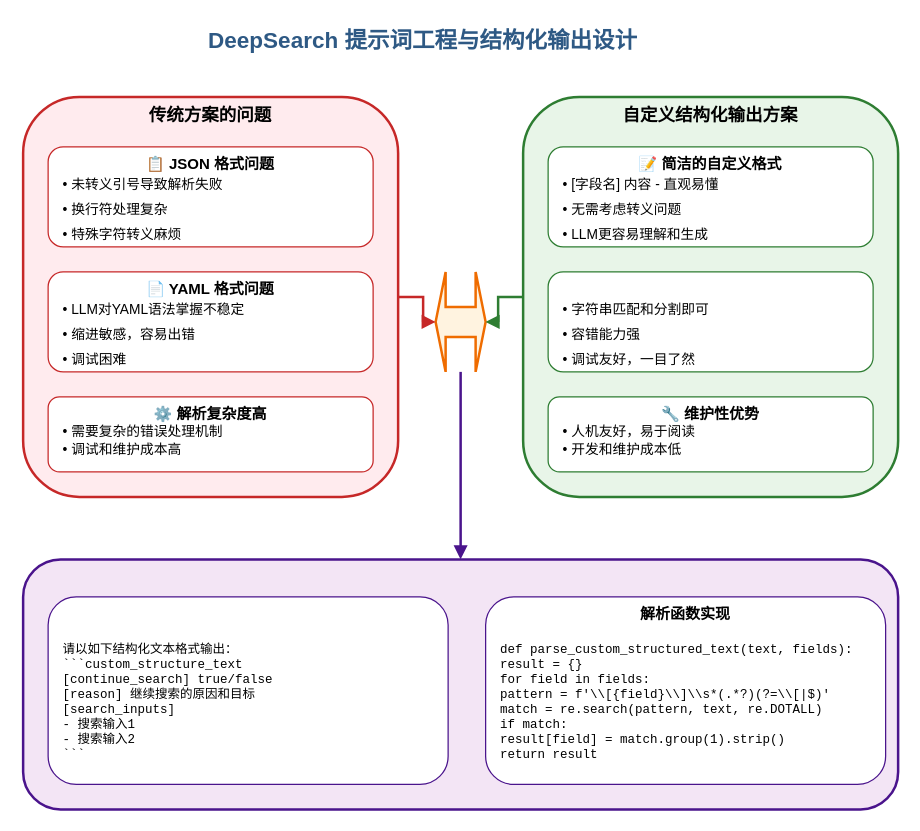
The diagram is 920 pixels wide and 831 high, and some of its shapes have lost their labels. Each missing label, with the box of its shape:
VS: (434, 270, 486, 372)
⚡ 解析逻辑简单: (547, 271, 873, 372)
实现示例: (21, 558, 899, 810)
提示词模板设计: (47, 596, 448, 784)
